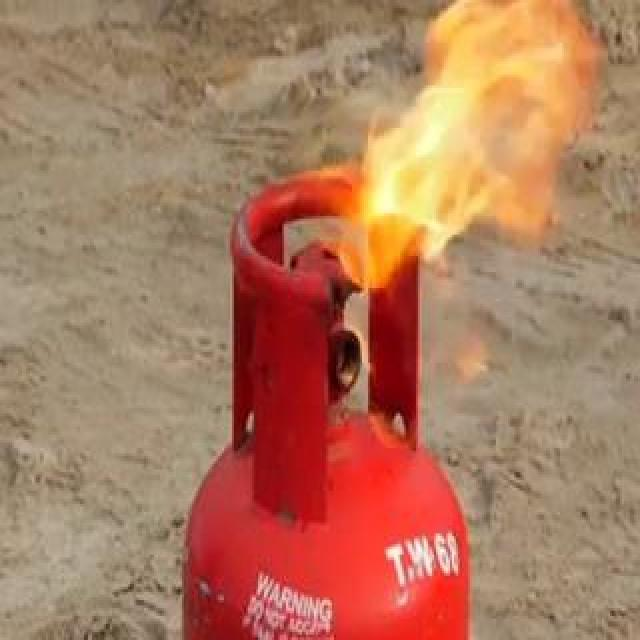Fire: (281, 2, 613, 450)
